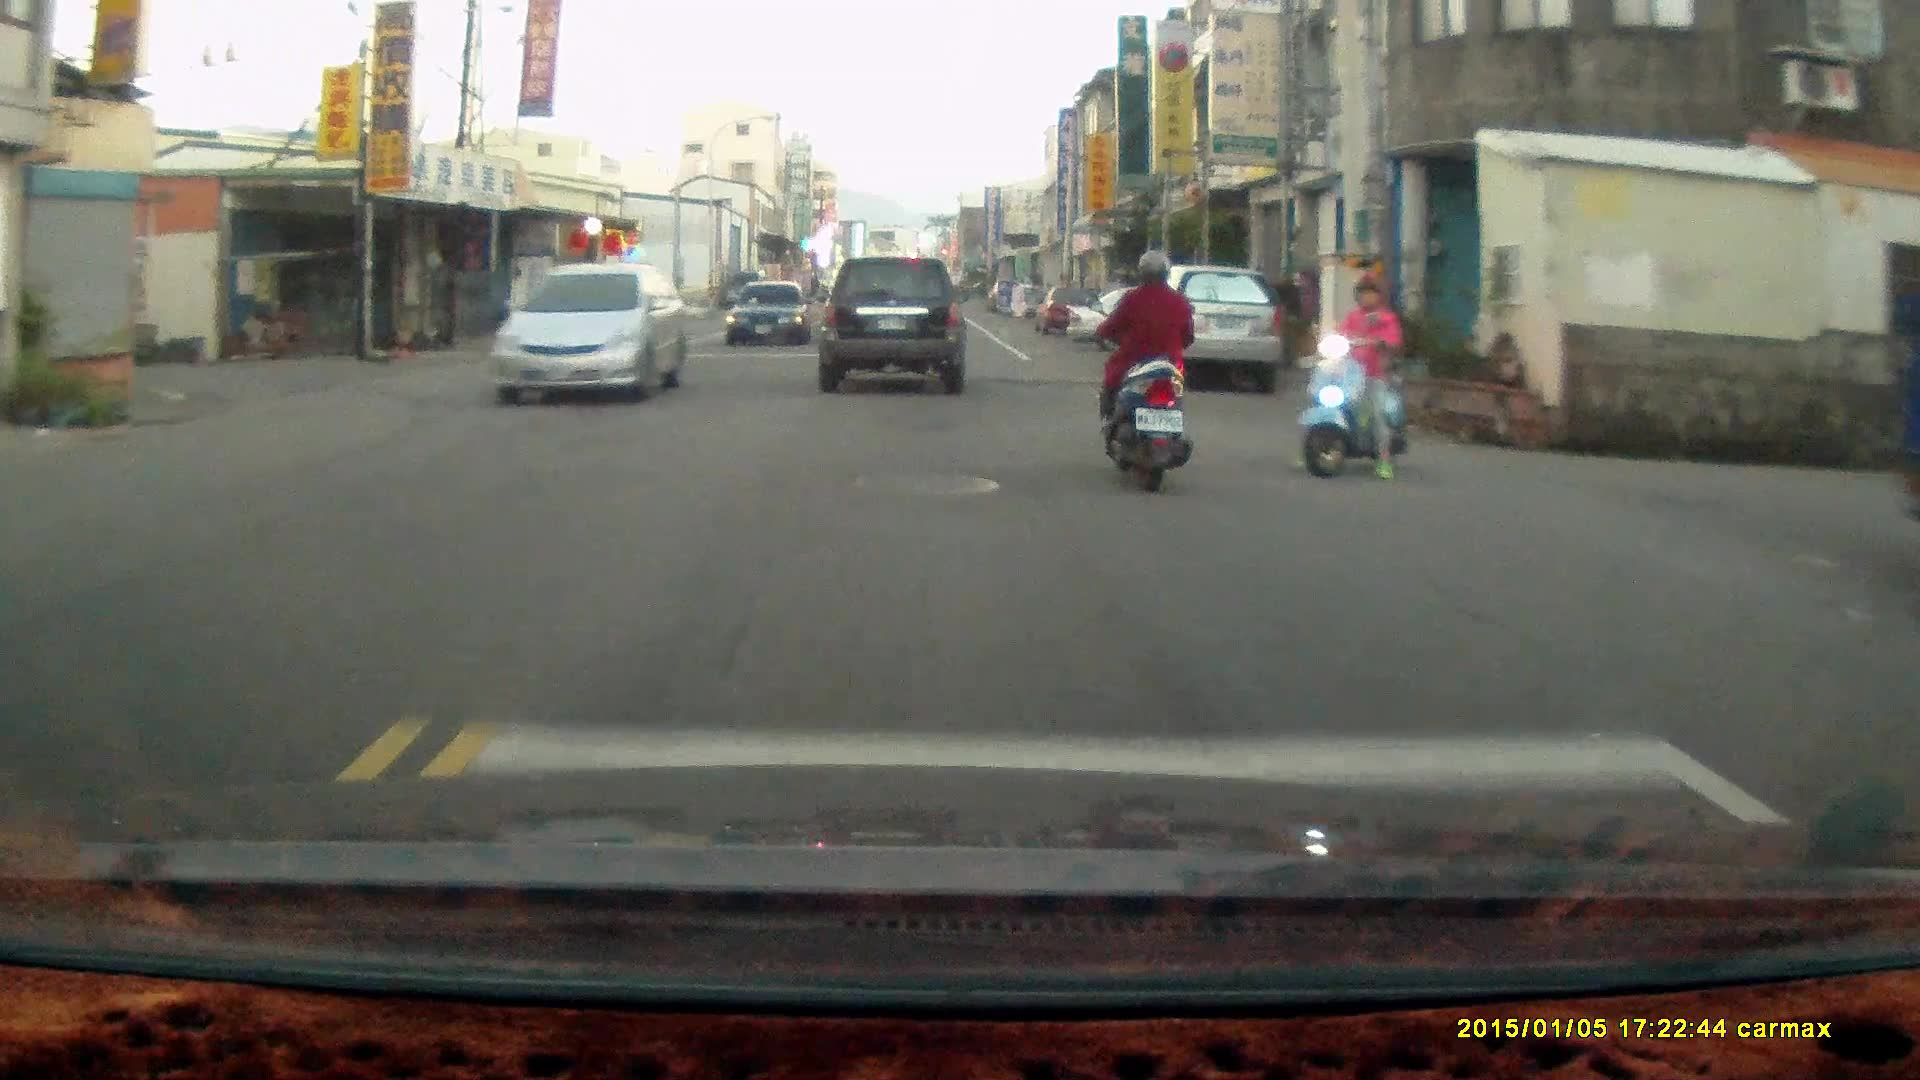rider: (1290, 269, 1409, 481), (1099, 249, 1194, 500)
vehicle: (492, 262, 690, 407), (817, 256, 968, 400), (1121, 266, 1287, 393), (1064, 283, 1241, 354), (731, 283, 814, 351)
